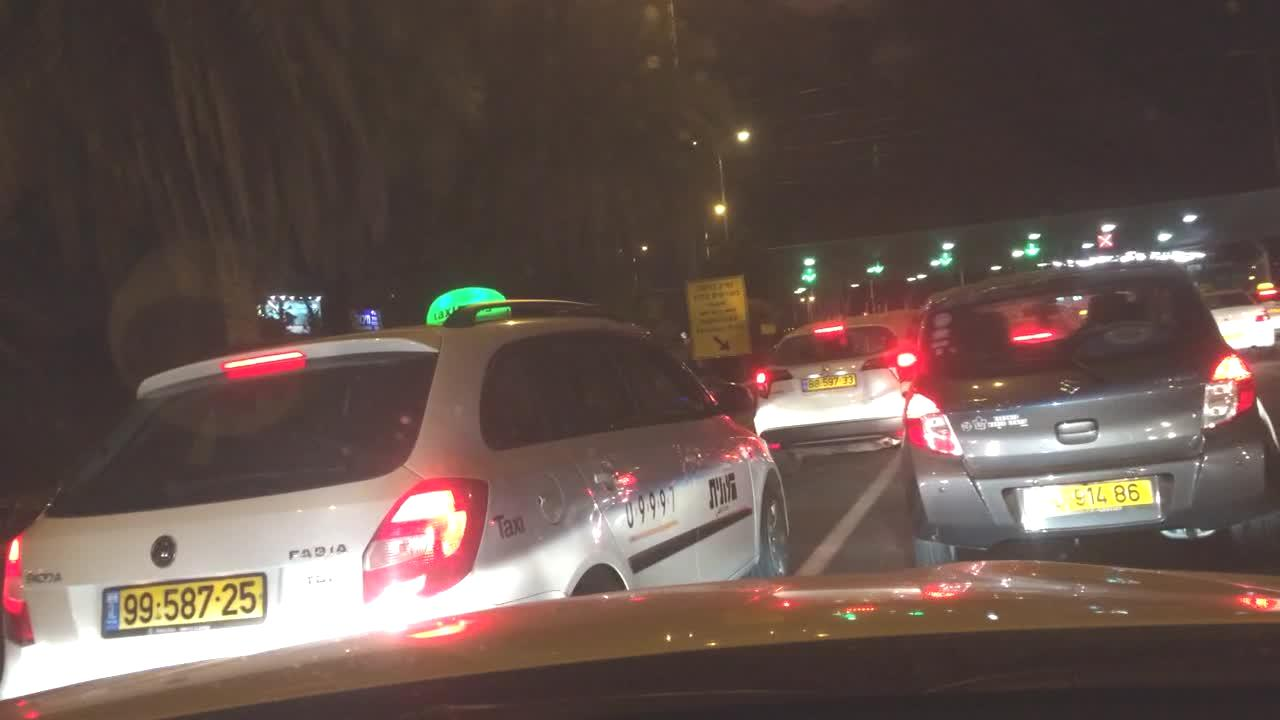suzuki: (1051, 369, 1092, 401)
